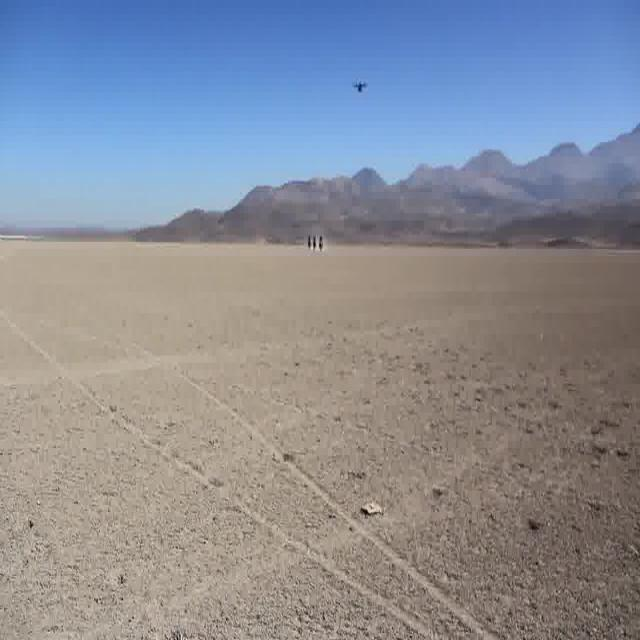drones: (348, 73, 372, 101)
